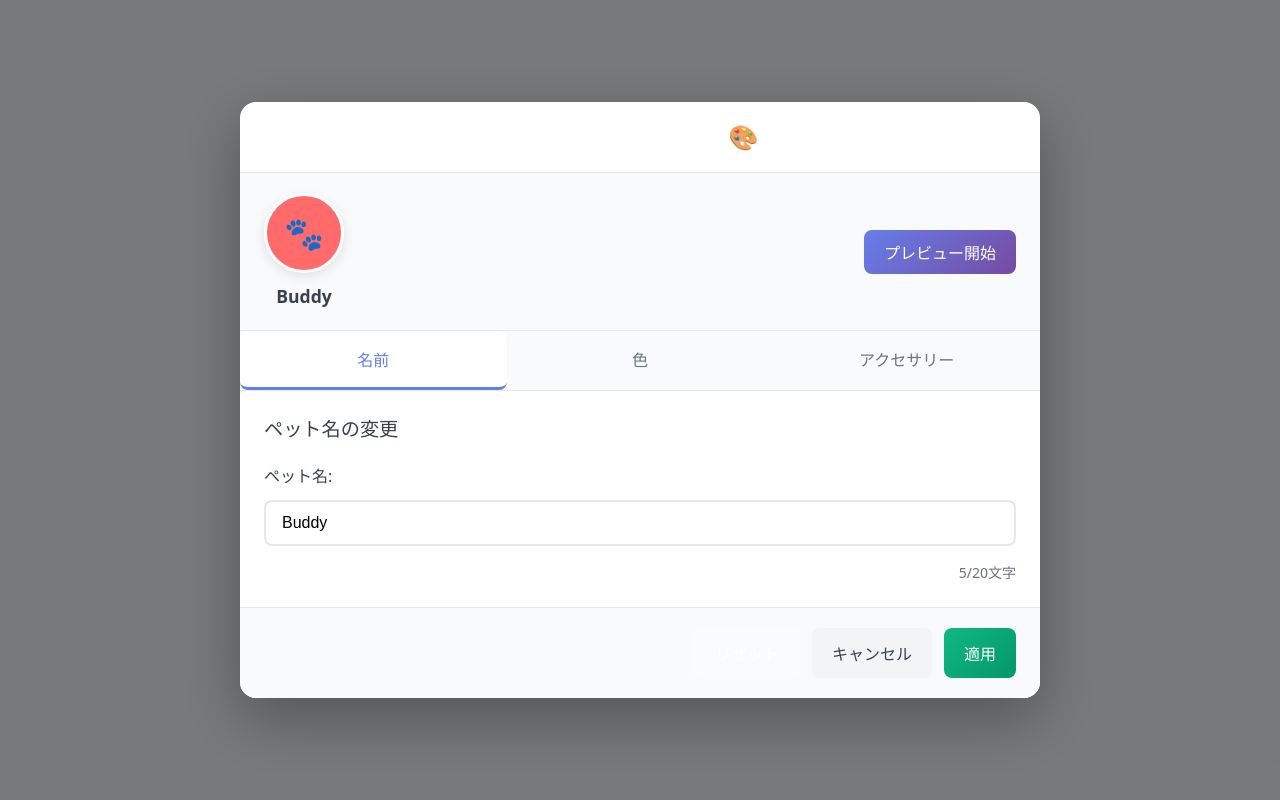
Test: CustomizationPanel › タブ切り替え › should switch to accessories tab
Click the button "アクセサリー" at (907, 360), box x1=773 y1=331 x2=1040 y2=390
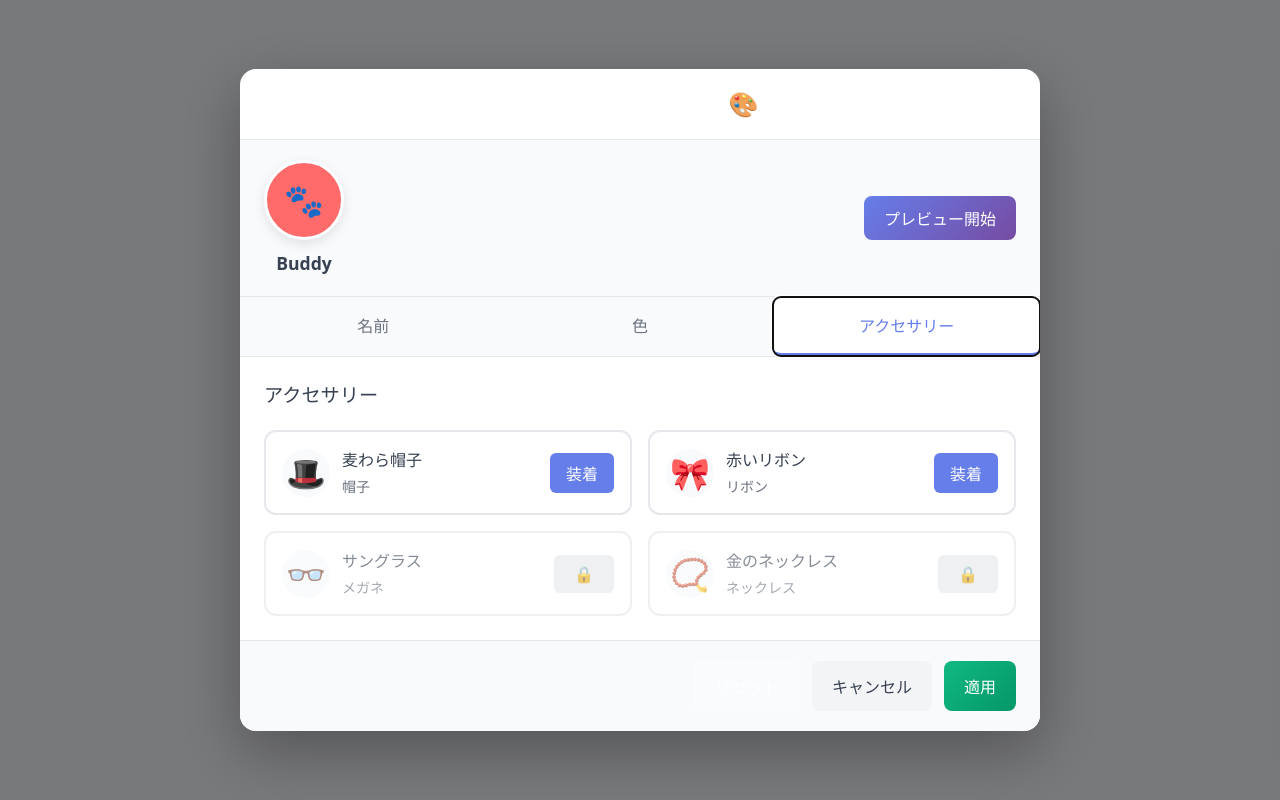
Expected: the heading "アクセサリー" is shown, x1=264 y1=381 x2=378 y2=408
Expected: the heading "麦わら帽子" is shown, x1=342 y1=449 x2=422 y2=471
